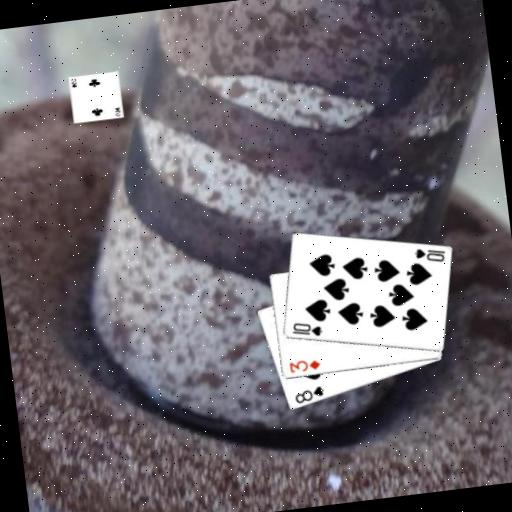10S: (410, 242, 447, 267), (288, 317, 324, 341)
3D: (286, 356, 323, 376)
8S: (290, 383, 326, 405)
